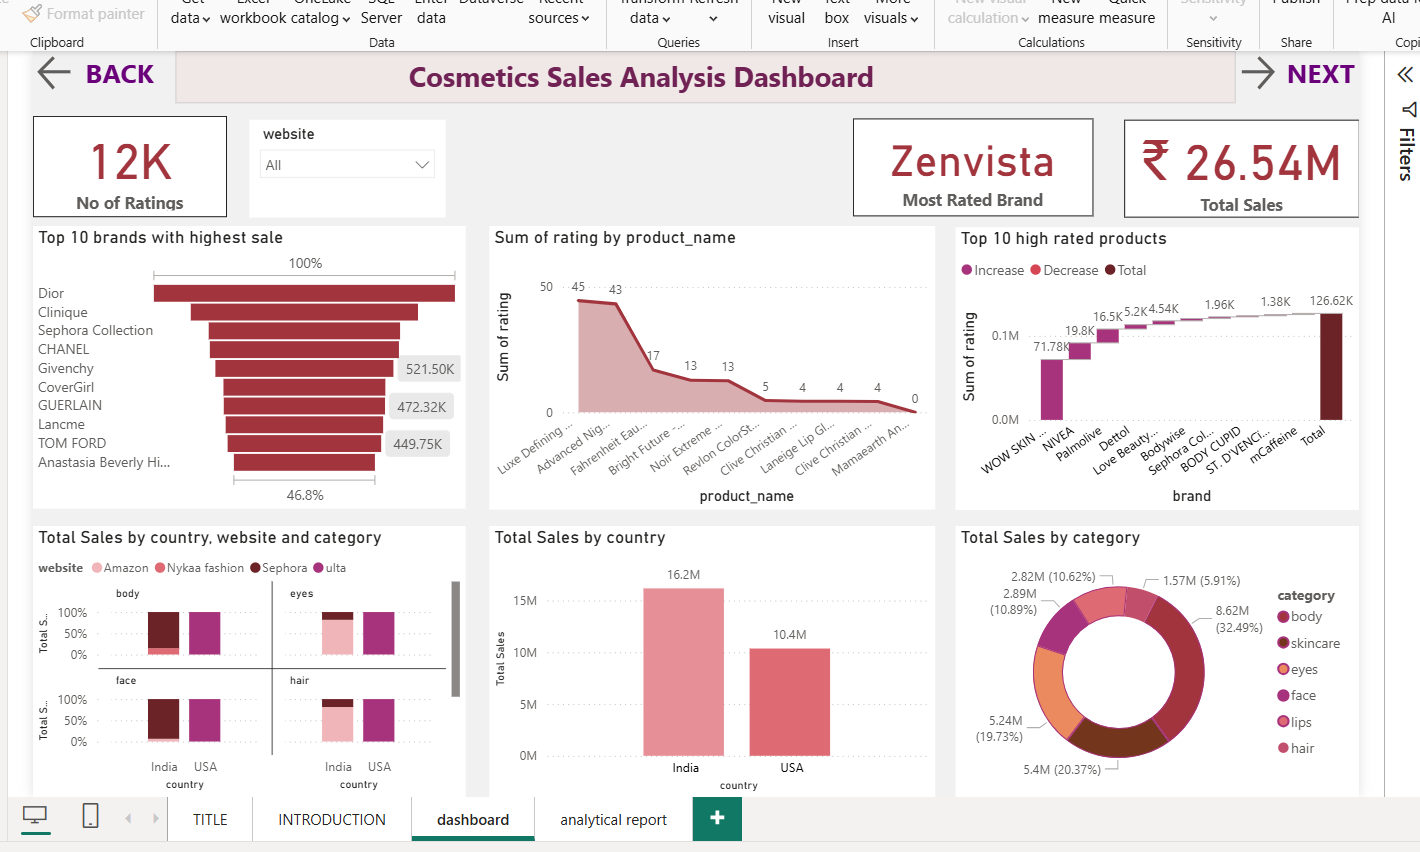

What the dashboard file says about the page in this screenshot:
{"tool":"powerbi","page":{"name":"dashboard","canvas":[1280,720],"ordinal":2},"visuals":[{"type":"card","fields":{"Values":["E-commerce  cosmetic dataset.Total Sales"]},"box":[1053.2,66.4,226.8,94.1],"z":0},{"type":"slicer","fields":{"Values":["E-commerce  cosmetic dataset.website"]},"box":[208.7,66.4,189.4,94.1],"z":1000},{"type":"donutChart","fields":{"Category":["E-commerce  cosmetic dataset.category"],"Y":["E-commerce  cosmetic dataset.Total Sales"]},"box":[890.4,458.4,389.7,261.8],"z":2000},{"type":"funnel","title":"Top 10 brands with highest sale","fields":{"Category":["E-commerce  cosmetic dataset.brand"],"Y":["E-commerce  cosmetic dataset.Total Sales"]},"box":[0,168.9,417.4,272.7],"z":3000},{"type":"waterfallChart","title":"Top 10 high rated products","fields":{"Category":["E-commerce  cosmetic dataset.brand"],"Y":["Sum(E-commerce  cosmetic dataset.rating)"]},"box":[890.4,170.1,389.7,272.7],"z":4000},{"type":"card","fields":{"Values":["E-commerce  cosmetic dataset.No of Ratings"]},"box":[0,62.7,187,97.7],"z":5000},{"type":"card","fields":{"Values":["E-commerce  cosmetic dataset.Most Rated Brand"]},"box":[791.4,65.1,231.6,94.1],"z":7000},{"type":"hundredPercentStackedColumnChart","fields":{"Y":["E-commerce  cosmetic dataset.Total Sales"],"Category":["E-commerce  cosmetic dataset.country"],"Series":["E-commerce  cosmetic dataset.website"],"Rows":["E-commerce  cosmetic dataset.category"]},"box":[0,458.4,417.4,261.8],"z":8000},{"type":"columnChart","fields":{"Category":["E-commerce  cosmetic dataset.country"],"Y":["E-commerce  cosmetic dataset.Total Sales"]},"box":[440.4,458.4,430.7,261.8],"z":9000},{"type":"areaChart","fields":{"Category":["E-commerce  cosmetic dataset.product_name"],"Y":["Sum(E-commerce  cosmetic dataset.rating)"]},"box":[440.4,168.9,430.7,273.9],"z":10000},{"type":"actionButton","box":[0,0,120.6,42.2],"z":11000},{"type":"actionButton","box":[1160.6,0,119.4,42.2],"z":12000},{"type":"textbox","box":[137.5,0,1023.1,50.7],"z":12001}]}

Visuals, with their boxes on the page's 1280x720 design canvas (x1, y1, x2, y2). These are canvas units, not pixel positions in the 1420x852 screenshot, which may show the page scaled, cropped or inside an application window:
card - E-commerce  cosmetic dataset.Total Sales: <region>1053, 66, 1280, 160</region>
slicer - E-commerce  cosmetic dataset.website: <region>209, 66, 398, 160</region>
donutChart - E-commerce  cosmetic dataset.category x E-commerce  cosmetic dataset.Total Sales: <region>890, 458, 1280, 720</region>
"Top 10 brands with highest sale" funnel: <region>0, 169, 417, 442</region>
"Top 10 high rated products" waterfallChart: <region>890, 170, 1280, 443</region>
card - E-commerce  cosmetic dataset.No of Ratings: <region>0, 63, 187, 160</region>
card - E-commerce  cosmetic dataset.Most Rated Brand: <region>791, 65, 1023, 159</region>
hundredPercentStackedColumnChart - E-commerce  cosmetic dataset.Total Sales x E-commerce  cosmetic dataset.country: <region>0, 458, 417, 720</region>
columnChart - E-commerce  cosmetic dataset.country x E-commerce  cosmetic dataset.Total Sales: <region>440, 458, 871, 720</region>
areaChart - E-commerce  cosmetic dataset.product_name x Sum(E-commerce  cosmetic dataset.rating): <region>440, 169, 871, 443</region>
actionButton: <region>0, 0, 121, 42</region>
actionButton: <region>1161, 0, 1280, 42</region>
textbox: <region>138, 0, 1161, 51</region>
